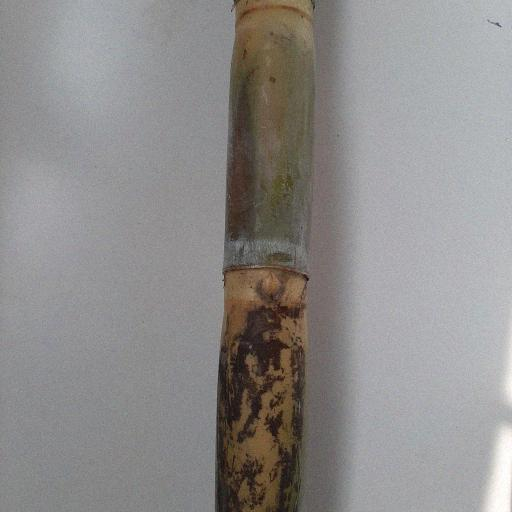Bud: (257, 271, 283, 303)
